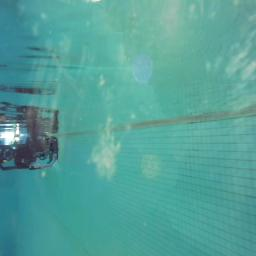Side: (0, 135, 58, 169)
